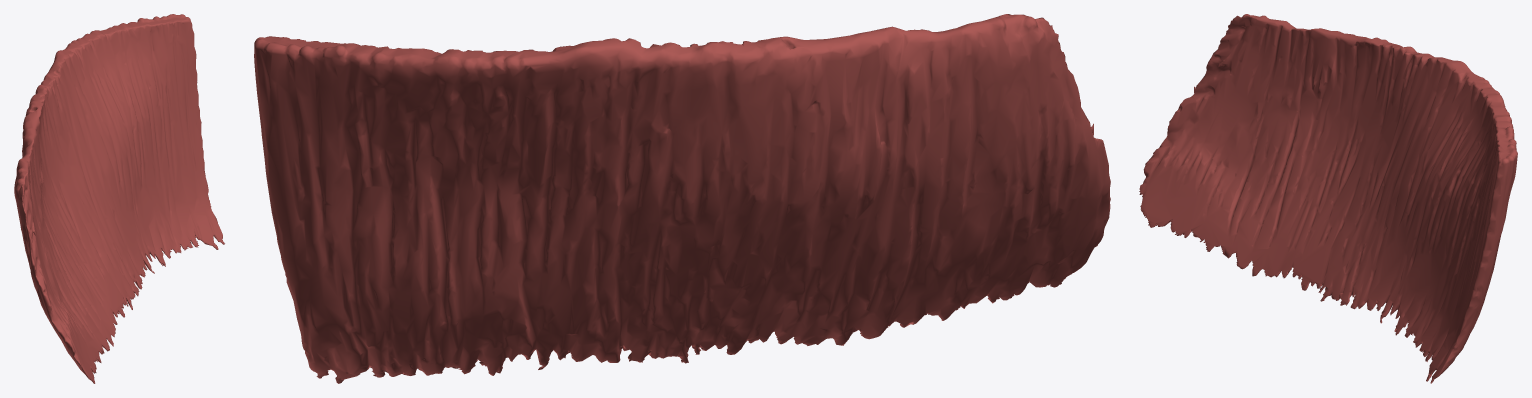
The model's file is FMA46761.glb.
The picture shows the model from 3 angles, left to right: view 1: azimuth 30°, elevation 25°; view 2: azimuth 150°, elevation 25°; view 3: azimuth 270°, elevation 25°; orthographic projection. The views are drawn at different scales.
Visible parts, largest first — view 1: FMA46761; view 2: FMA46761; view 3: FMA46761.
Boxes of the visible parts, bbox=[...] form: FMA46761: bbox=[14, 14, 224, 383]; FMA46761: bbox=[254, 14, 1110, 383]; FMA46761: bbox=[1139, 14, 1517, 383].
Bounding box in the file's own units: 0.0451 × 0.032 × 0.0452.
